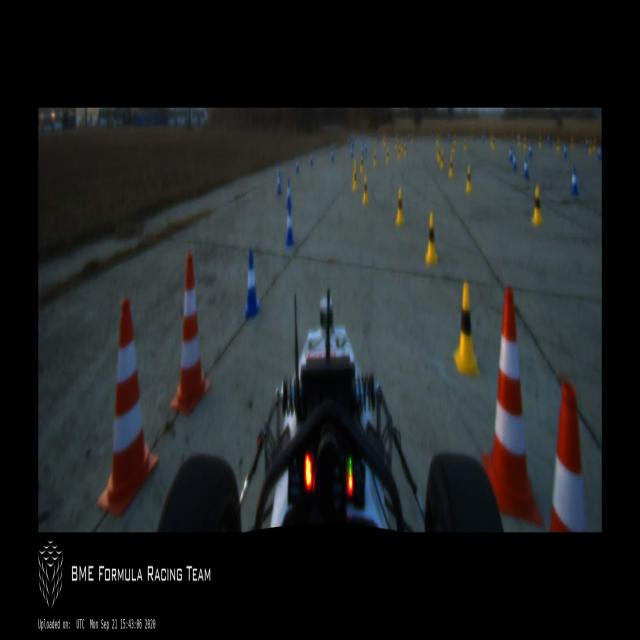blue_cone: (243, 249, 260, 320), (285, 206, 294, 246), (569, 165, 580, 197), (285, 179, 292, 210), (523, 155, 530, 180), (511, 151, 518, 172), (276, 172, 282, 194), (276, 165, 281, 183), (597, 145, 602, 160), (295, 157, 299, 174), (528, 141, 532, 155), (563, 145, 567, 159), (585, 136, 589, 150), (310, 149, 313, 166), (331, 147, 334, 162), (509, 147, 512, 161), (361, 144, 364, 153), (351, 145, 353, 157), (365, 138, 367, 150), (548, 133, 550, 145), (352, 137, 354, 148), (482, 132, 484, 142), (379, 132, 381, 141), (432, 132, 433, 138), (409, 132, 410, 138)
large_orange_cone: (484, 288, 544, 524), (96, 297, 158, 521), (170, 252, 212, 419), (550, 382, 584, 532)
yellow_cone: (454, 285, 479, 377), (423, 212, 438, 265), (532, 186, 544, 225), (396, 189, 405, 225), (465, 164, 473, 193), (363, 176, 369, 207), (352, 168, 358, 192), (448, 156, 454, 179), (352, 158, 358, 180), (440, 151, 445, 169), (437, 145, 441, 163), (373, 150, 377, 167), (385, 147, 389, 164), (556, 137, 560, 154), (570, 134, 574, 151), (360, 156, 364, 172), (538, 134, 542, 150), (523, 137, 527, 151), (452, 141, 455, 154), (398, 146, 401, 159), (492, 138, 495, 150), (383, 134, 386, 146), (404, 142, 407, 154), (518, 137, 521, 147), (464, 138, 467, 148), (394, 139, 397, 149), (411, 134, 414, 144), (401, 140, 403, 152)
